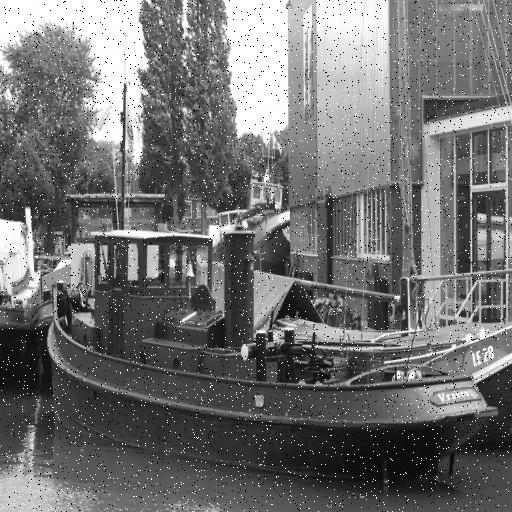tugboat: (48, 227, 500, 496)
